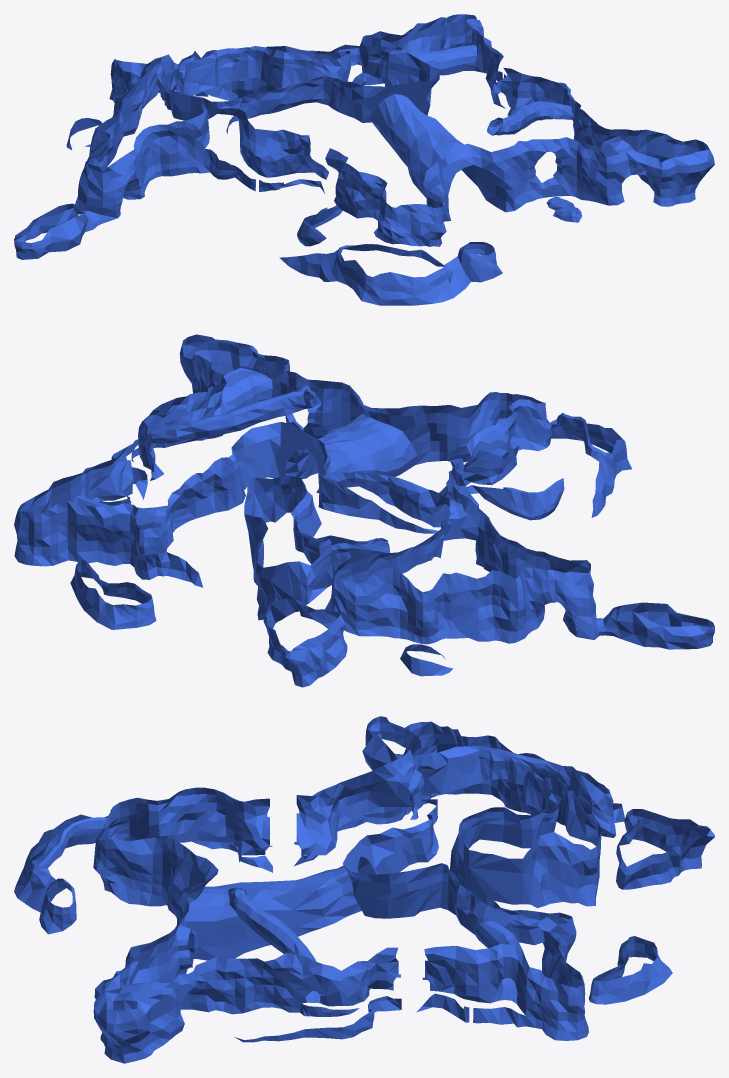
The model's file is level_collision_stone.fbx.
3 renders of one model, top to bottom at view 1: azimuth 30°, elevation 25°; view 2: azimuth 150°, elevation 25°; view 3: azimuth 270°, elevation 25°, orthographic. The views are drawn at different scales.
Parts seen in each view (by area): view 1: level_collision_stone; view 2: level_collision_stone; view 3: level_collision_stone.
Part boxes in pixels (<box>): level_collision_stone: <box>14,14,714,305</box>; level_collision_stone: <box>14,334,714,687</box>; level_collision_stone: <box>14,716,714,1063</box>.
Bounding box in the file's own units: 1436314 × 223192 × 1254580.
